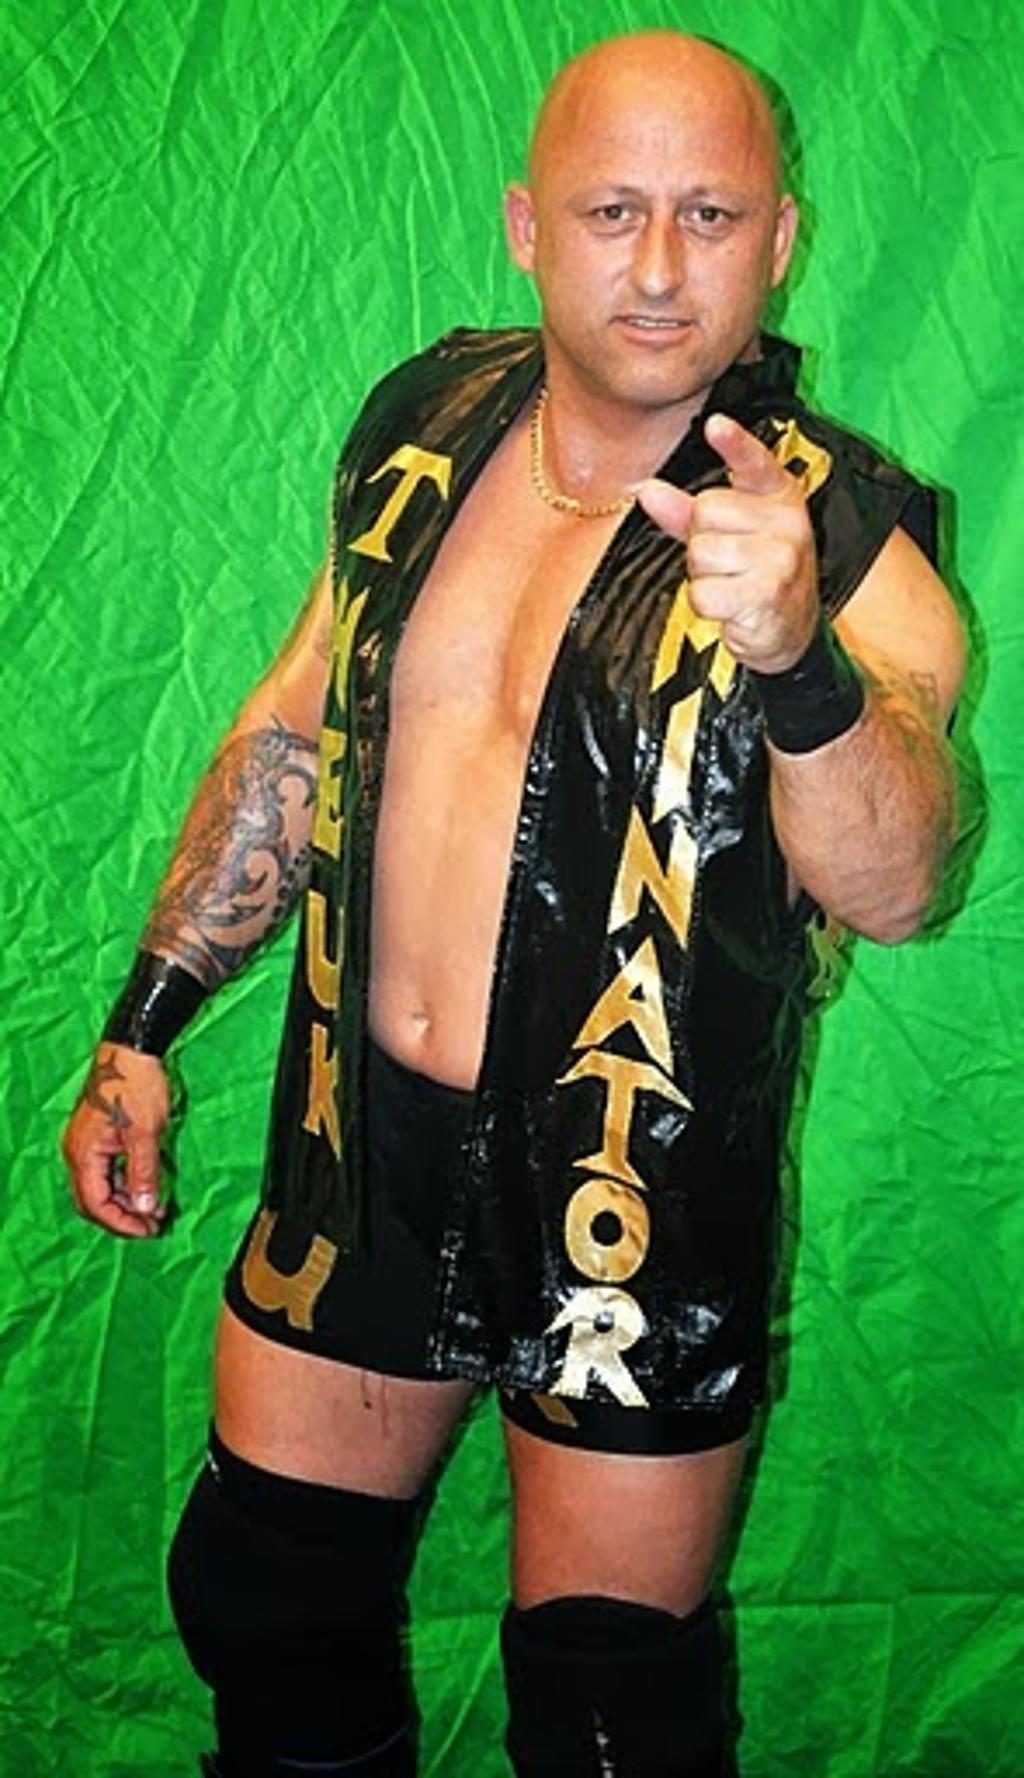face: (546, 67, 782, 404)
